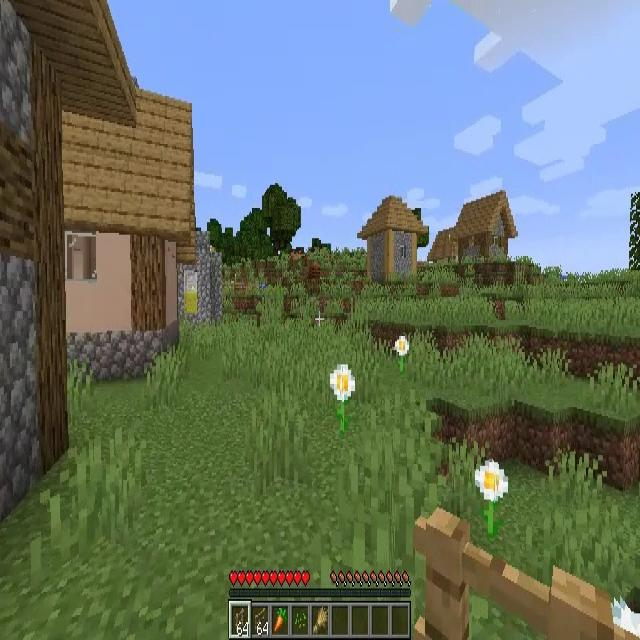flower: (475, 460, 509, 538), (330, 362, 354, 431), (394, 336, 410, 372)
